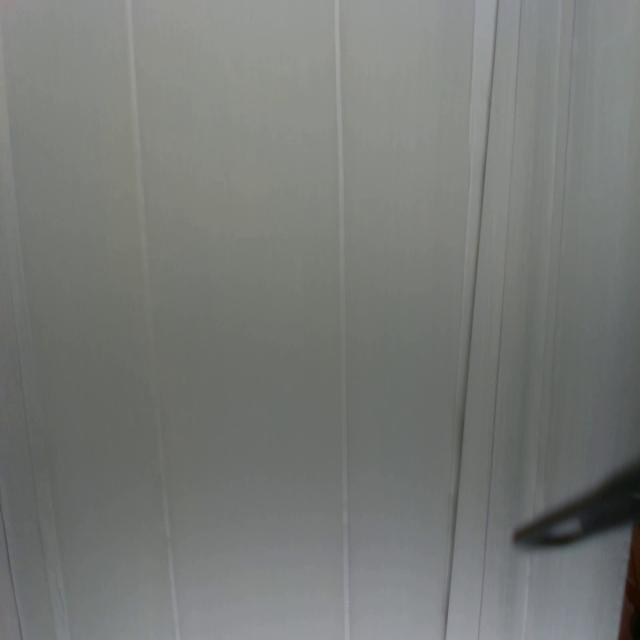crease: (442, 0, 500, 638), (124, 2, 182, 638), (479, 4, 523, 640), (536, 0, 578, 474), (12, 310, 57, 630), (334, 0, 352, 640), (0, 502, 24, 640)
